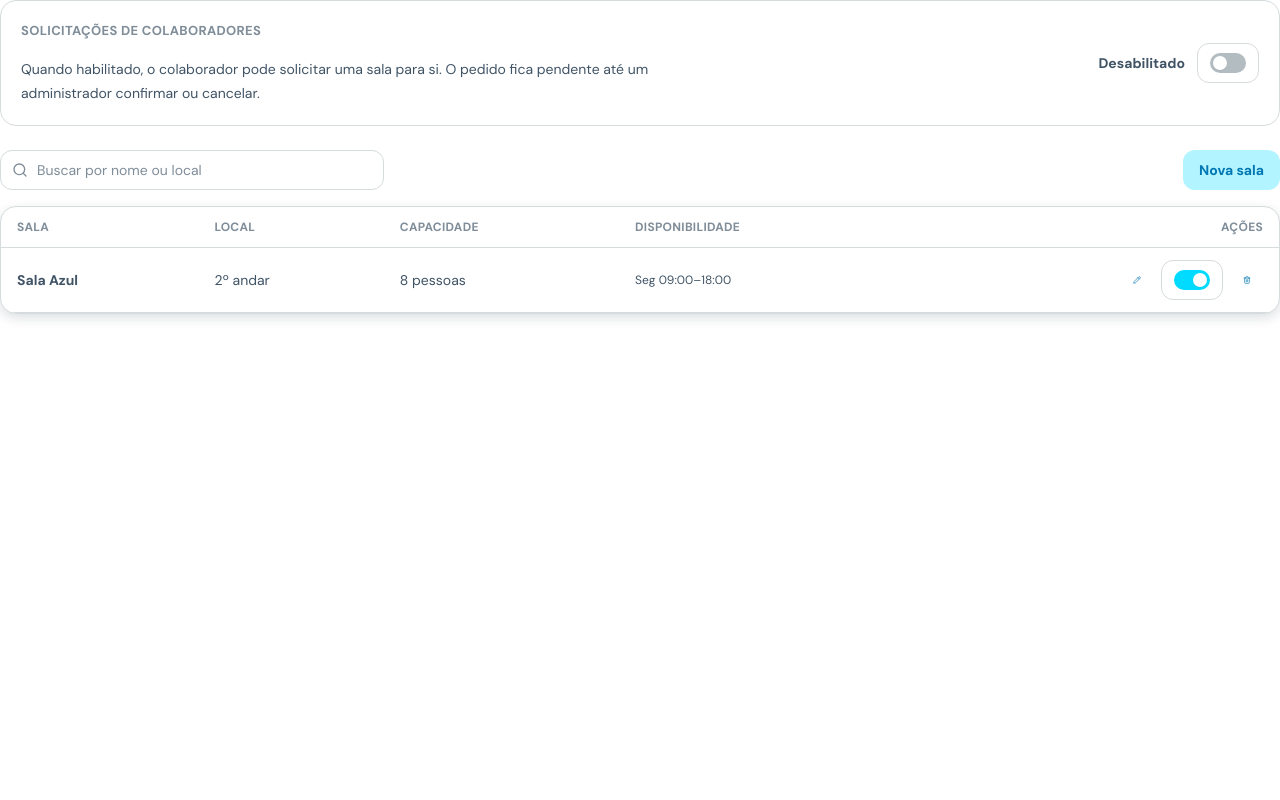
Scenario: SalasAdminPage › avisa que a sala sem janela não aceita reservas
What coordinates should you click on to do the following:
click the button "Nova sala"
I would click on:
 (1232, 170)
Its box is [1183,150,1279,190].
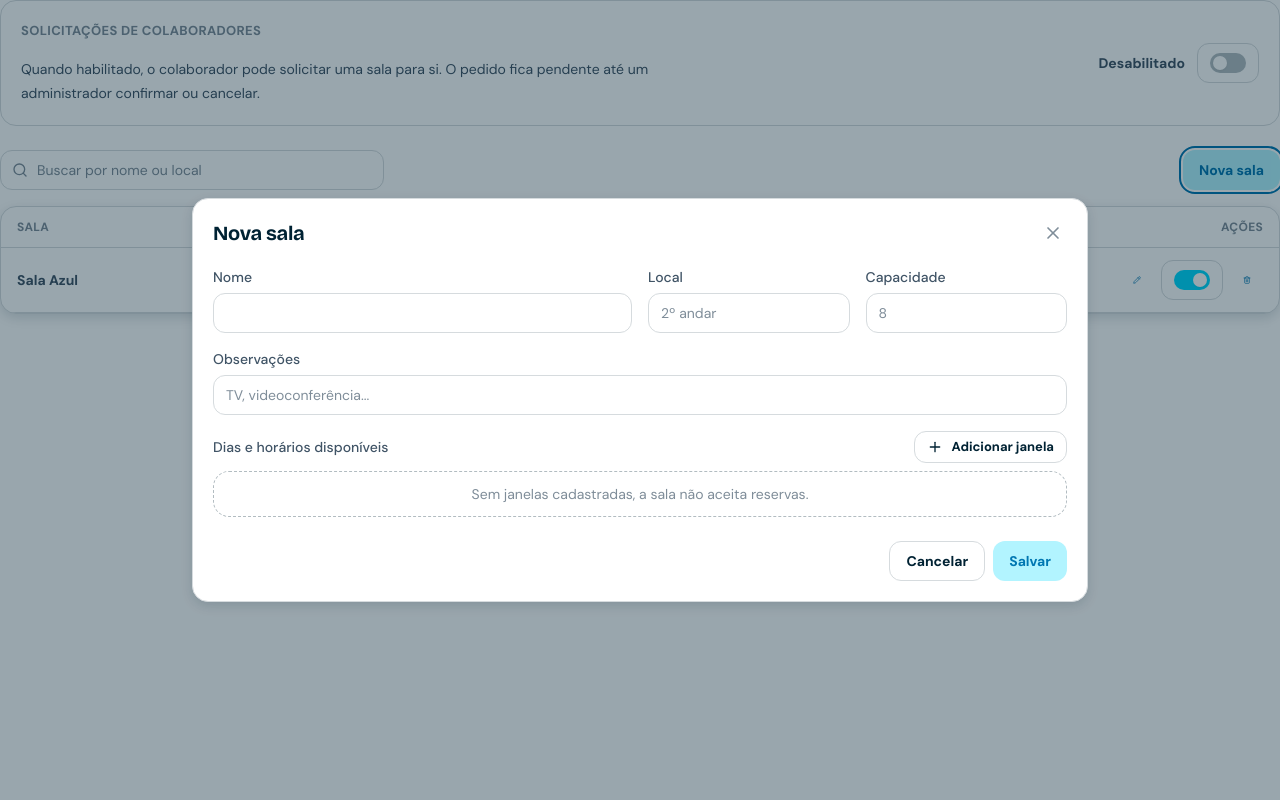
Now the text "Sem janelas cadastradas, a sala não aceita reservas." is shown, box [213,471,1067,517]
